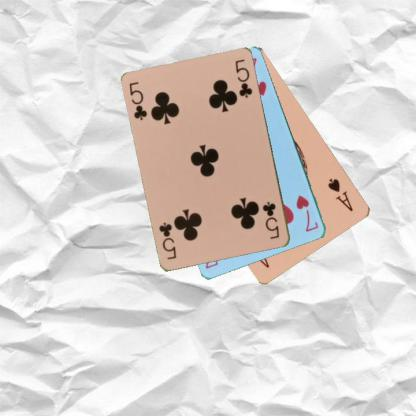5c: (127, 79, 149, 122), (260, 199, 281, 240)
7h: (294, 192, 320, 233)
As: (325, 176, 355, 213)
